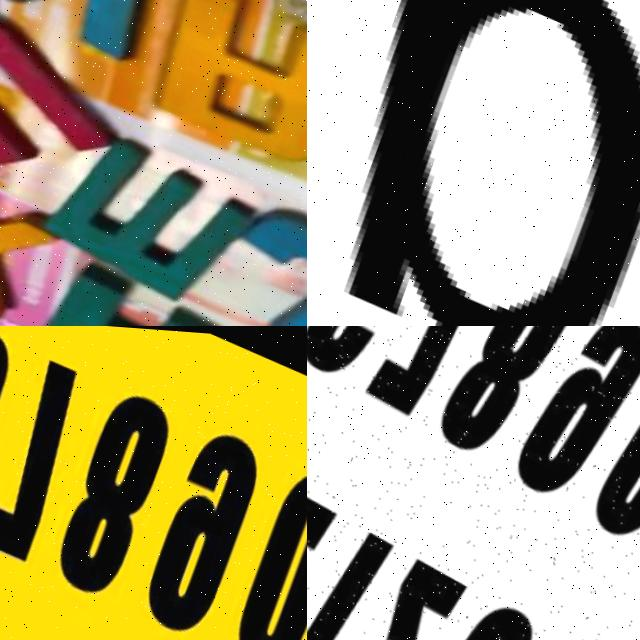0: (556, 326, 640, 591), (210, 443, 307, 640)
1: (307, 489, 402, 640)
2: (307, 523, 477, 640)
3: (368, 563, 549, 640)
4: (442, 591, 631, 640)
6: (307, 326, 463, 412)
7: (0, 326, 105, 590), (339, 326, 530, 462)
8: (36, 361, 187, 620), (408, 326, 600, 497)
9: (122, 394, 282, 640), (481, 326, 640, 547)
J: (215, 185, 307, 326)
K: (27, 253, 223, 326)
M: (38, 111, 259, 308)
P: (337, 0, 640, 326)
R: (128, 0, 307, 174)
U: (0, 0, 137, 203)
V: (0, 0, 182, 61)
X: (0, 150, 52, 326)
